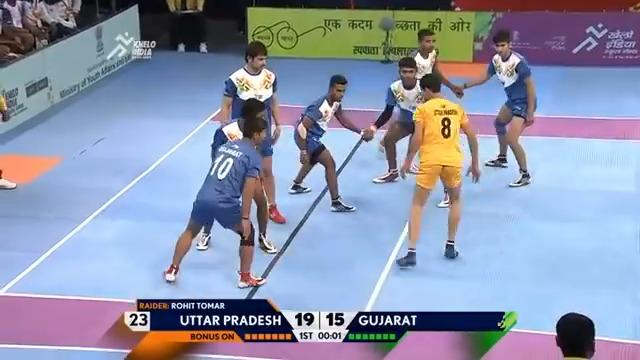Player: (163, 115, 273, 288), (202, 40, 286, 240), (453, 29, 537, 187), (287, 73, 372, 212), (362, 56, 427, 183), (405, 27, 463, 98)
Raider: (395, 73, 480, 267)
referee: (166, 0, 209, 53)
